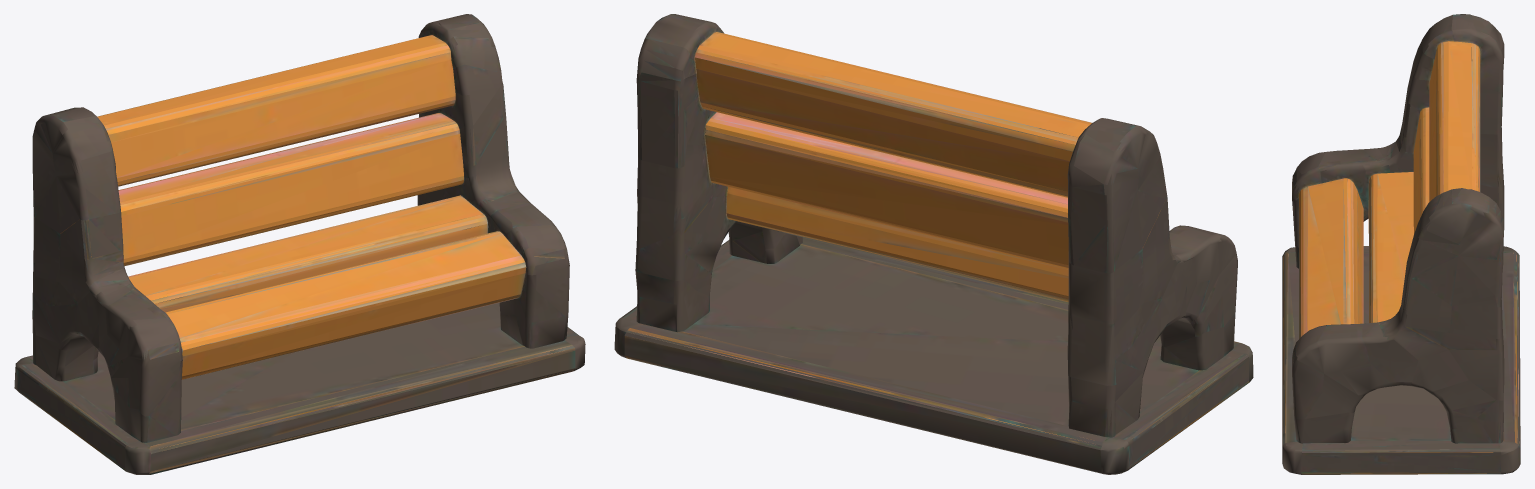
File: bench.glb
3 views of the same model, side by side, from view 1: azimuth 30°, elevation 25°; view 2: azimuth 150°, elevation 25°; view 3: azimuth 270°, elevation 25° (orthographic). The views are drawn at different scales.
Bounding box in the file's own units: 1.6 × 0.9625 × 0.7844.
1 material, 1 textured.
